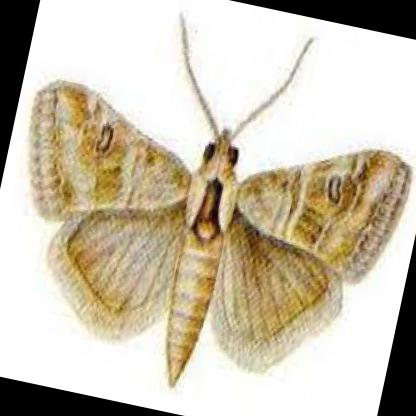Hellula undalis: (25, 6, 416, 380)
